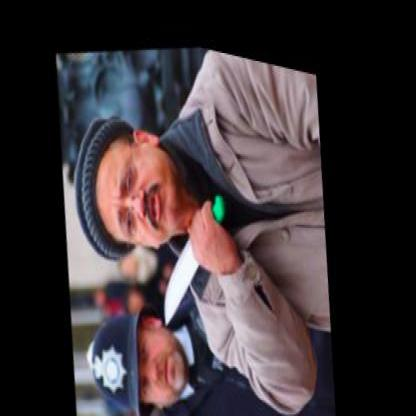knife: (152, 195, 221, 329)
